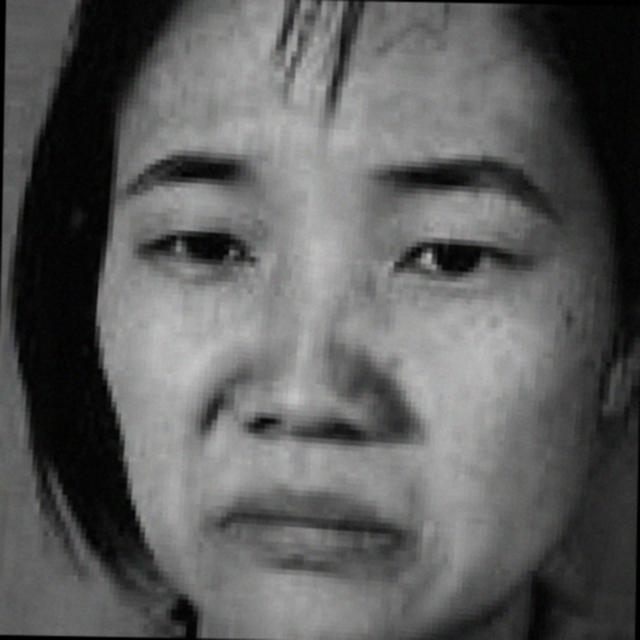disgust: (62, 39, 542, 636)
